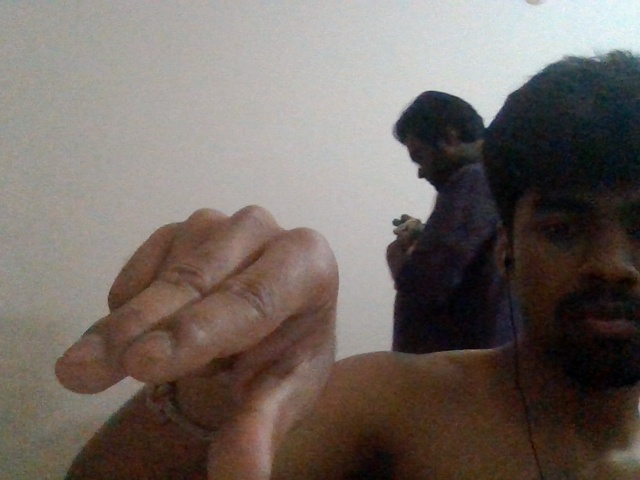No: (55, 201, 347, 480)
